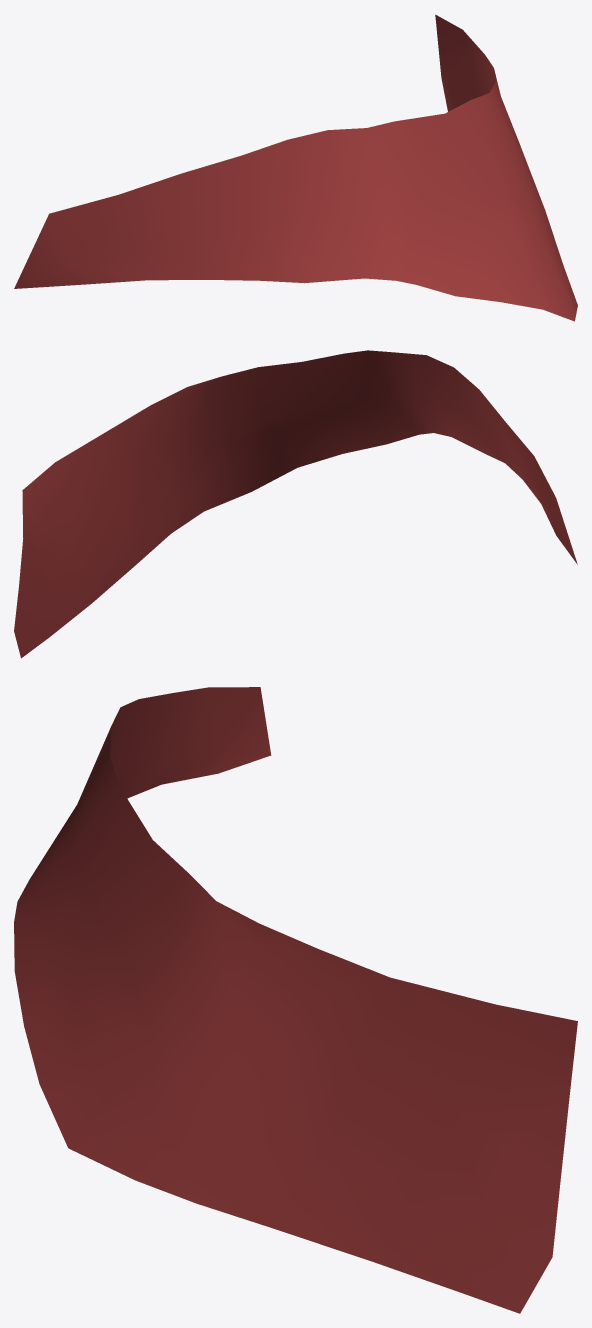
File: inferior-extensor-retinaculum-of-ankle-l.glb
The picture shows the model from 3 angles, top to bottom: view 1: azimuth 30°, elevation 25°; view 2: azimuth 150°, elevation 25°; view 3: azimuth 270°, elevation 25°; orthographic projection. The views are drawn at different scales.
Visible parts, largest first — view 1: Inferior extensor retinaculum of ankle.l; view 2: Inferior extensor retinaculum of ankle.l; view 3: Inferior extensor retinaculum of ankle.l.
Part boxes in pixels (x1=…): Inferior extensor retinaculum of ankle.l: x1=14, y1=14, x2=577, y2=321; Inferior extensor retinaculum of ankle.l: x1=14, y1=350, x2=577, y2=658; Inferior extensor retinaculum of ankle.l: x1=14, y1=687, x2=577, y2=1313.
Bounding box in the file's own units: 0.0521 × 0.0282 × 0.0364.
